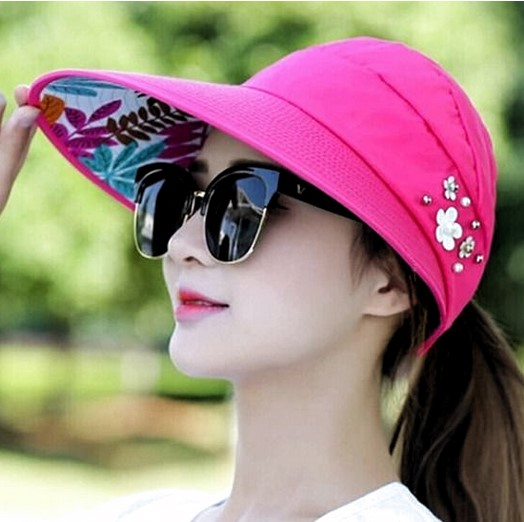face_no_mask: (142, 82, 412, 403)
